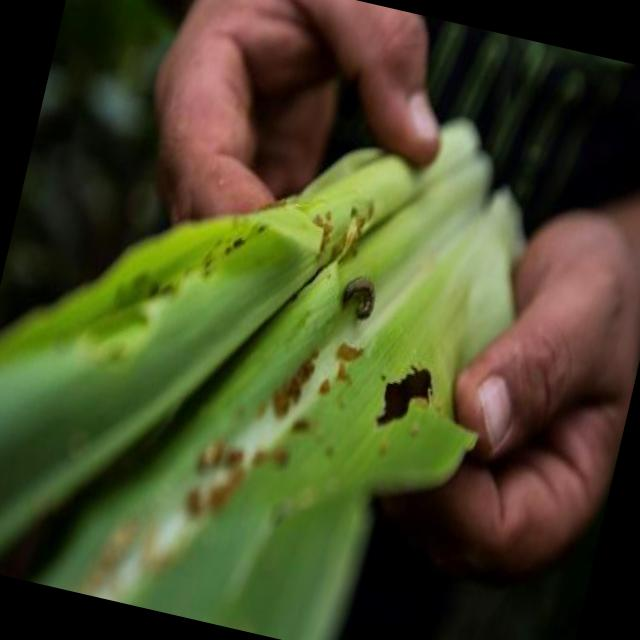pest: (337, 264, 393, 327)
